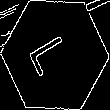L_NE: (29, 29, 81, 81)
